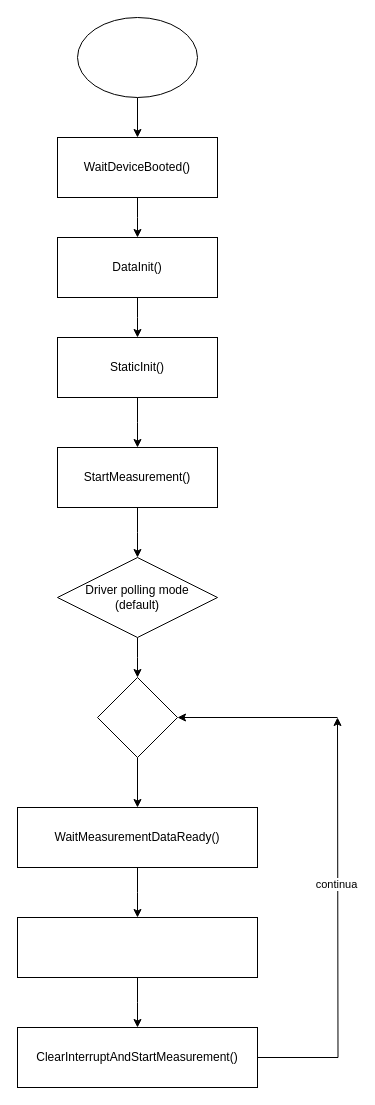
The diagram is 375 pixels wide and 1105 high, and some of its shapes have lost their labels. The centre of each missing label's shape, as x and y in pixels:
"GetRangingMeasurementData()" belongs at point 137,947.
"Start" belongs at point 137,57.
"while(1)" belongs at point 137,717.
